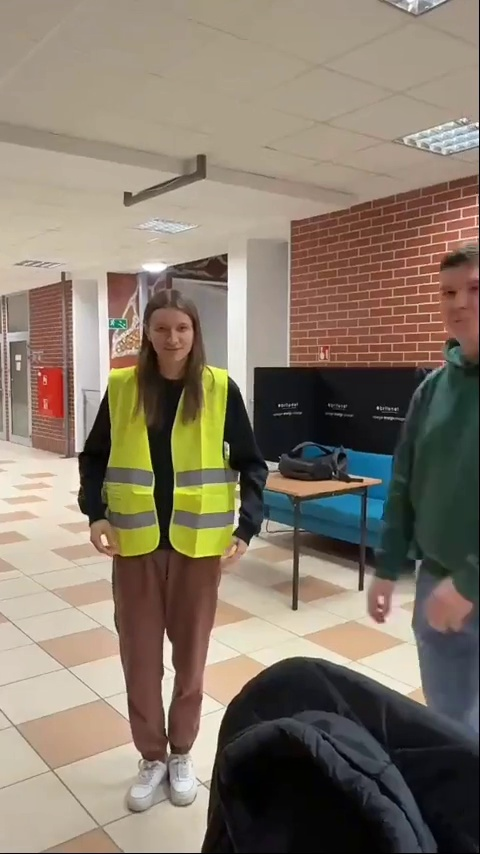no vest: (383, 240, 480, 732)
vest: (77, 281, 271, 787)
